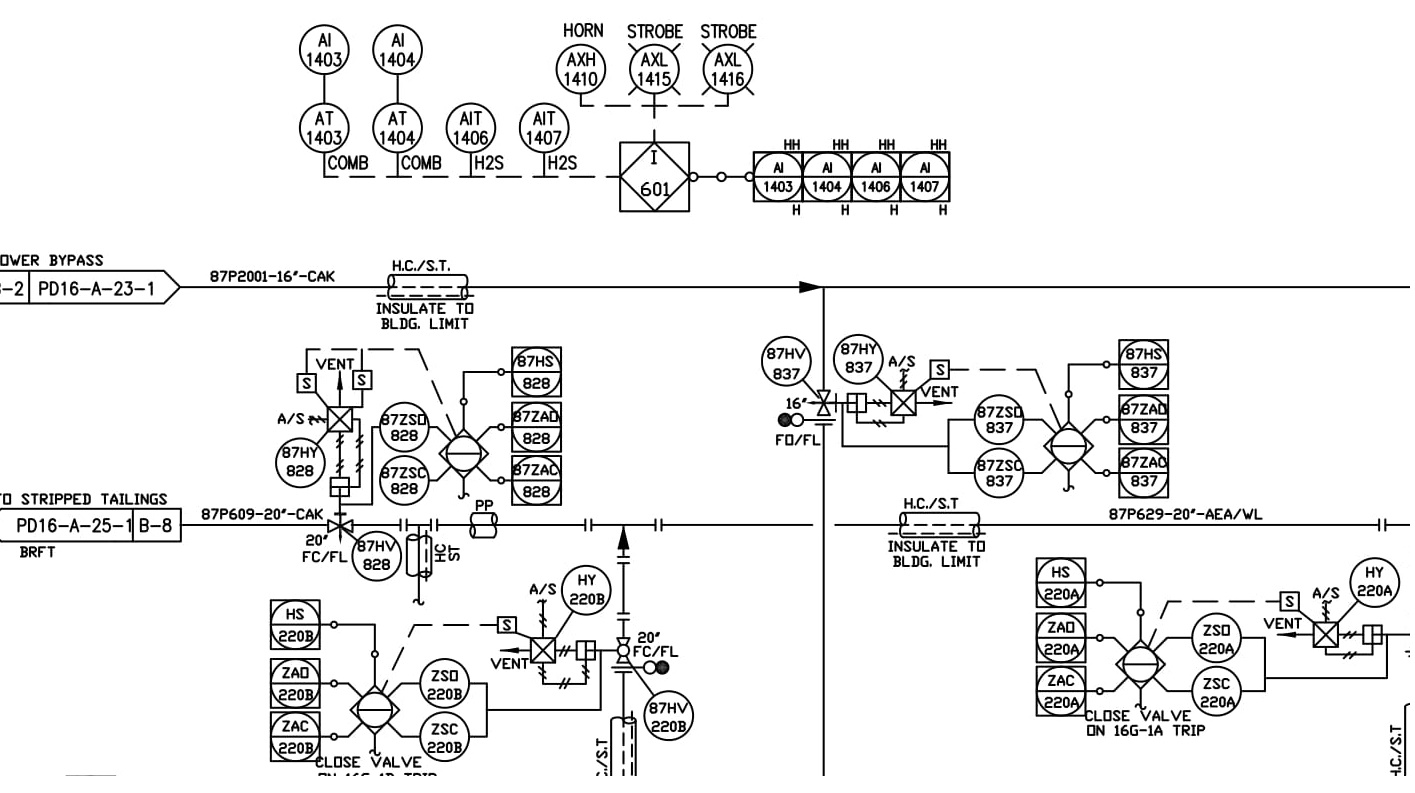Inline Instrument: (296, 21, 353, 82), (371, 18, 428, 79), (297, 96, 354, 157), (370, 98, 427, 159), (441, 93, 498, 154), (517, 93, 574, 154), (273, 430, 330, 491), (758, 327, 815, 388), (830, 327, 887, 388), (973, 443, 1030, 504), (972, 385, 1029, 446), (376, 447, 433, 508), (378, 395, 435, 456), (418, 648, 475, 709), (419, 707, 476, 768), (559, 559, 616, 620), (640, 684, 697, 745), (1189, 603, 1246, 664), (1189, 661, 1246, 722), (1347, 552, 1404, 613)
Panel Instrument: (265, 594, 325, 652), (267, 649, 327, 707), (265, 705, 325, 763), (1113, 333, 1173, 391), (1116, 443, 1176, 501), (1117, 389, 1177, 447), (746, 145, 806, 203), (798, 147, 858, 205), (847, 148, 907, 206), (895, 148, 955, 206), (506, 341, 566, 399), (508, 397, 568, 455), (507, 449, 567, 507), (1030, 551, 1090, 609), (1032, 606, 1092, 664), (1034, 659, 1094, 717)
